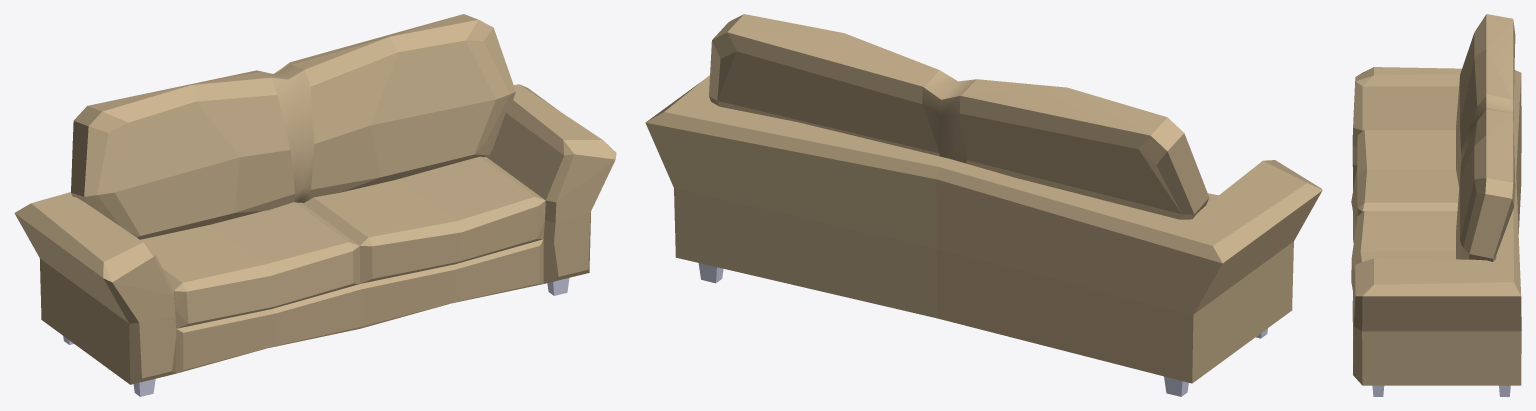
File: Couch.FBX
3 renders of one model, left to right at view 1: azimuth 30°, elevation 25°; view 2: azimuth 150°, elevation 25°; view 3: azimuth 270°, elevation 25°, orthographic. The views are drawn at different scales.
Parts seen in each view (by area): view 1: Couch_01; view 2: Couch_01; view 3: Couch_01.
Part boxes in pixels (box(x1,y1,x2,y2)): Couch_01: box(14, 14, 616, 396); Couch_01: box(645, 14, 1322, 396); Couch_01: box(1351, 14, 1521, 396).
Bounding box in the file's own units: 288 × 127 × 92.62.
